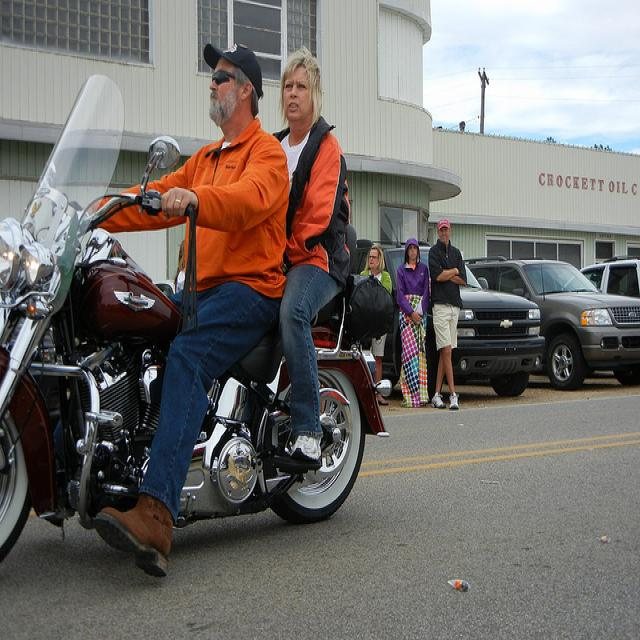motor: (0, 76, 395, 559)
